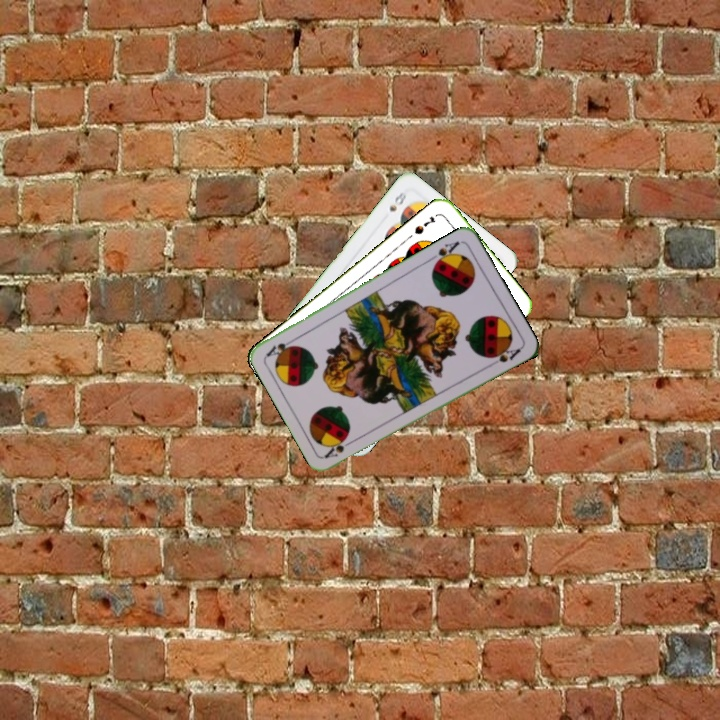S7: (410, 211, 438, 237)
S8: (385, 188, 409, 214)
SA: (430, 237, 462, 268), (321, 435, 358, 461)
